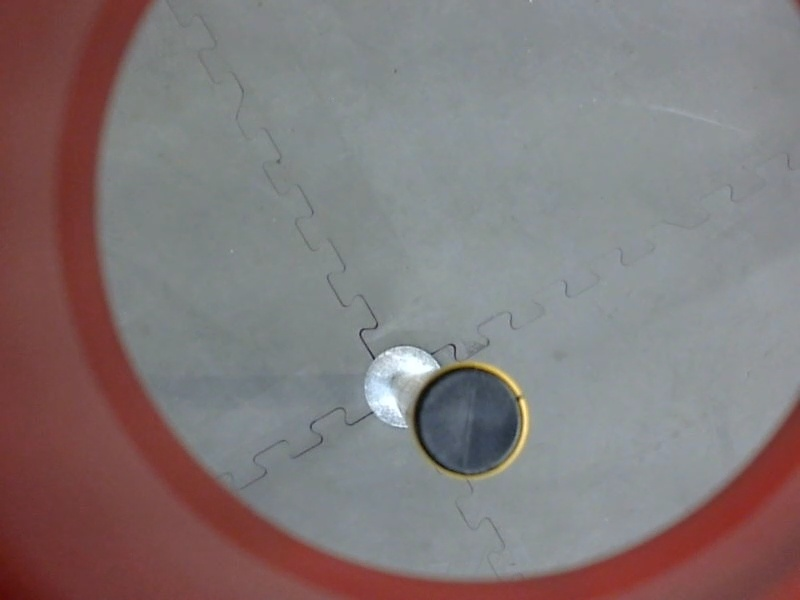tip: (404, 356, 536, 487)
